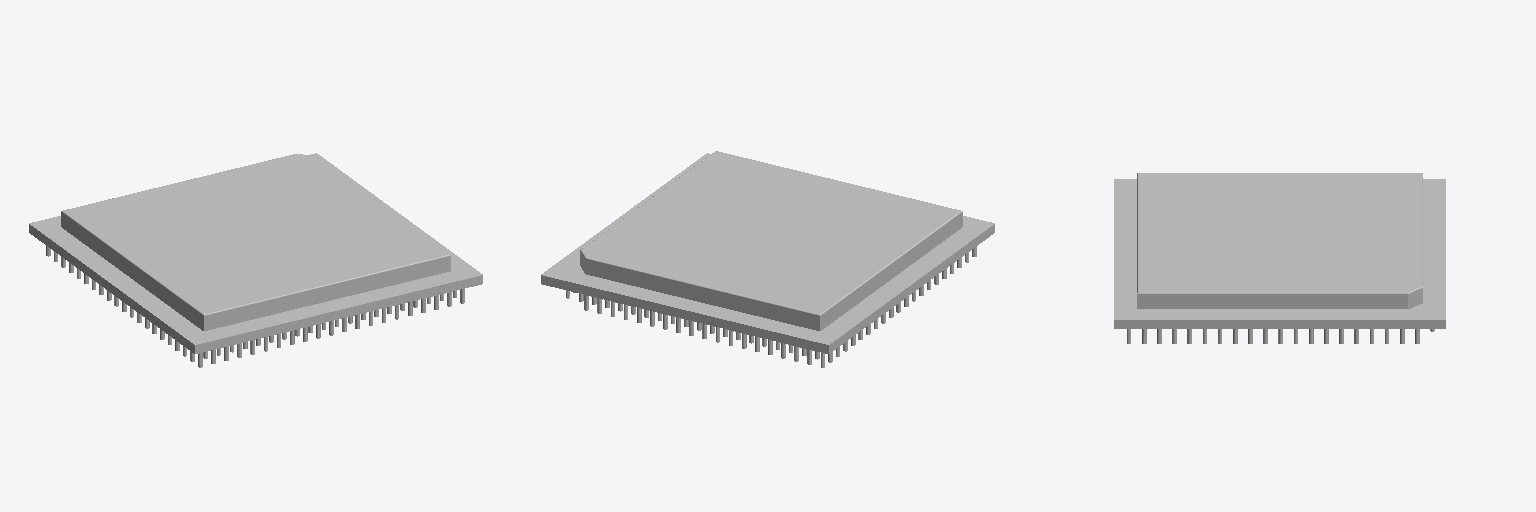
The model's file is cpu.obj.
3 views of the same model, side by side, from view 1: azimuth 30°, elevation 25°; view 2: azimuth 150°, elevation 25°; view 3: azimuth 270°, elevation 25° (orthographic).
Visible parts, largest first — view 1: Mesh374 pentium_4_1 Model; view 2: Mesh374 pentium_4_1 Model; view 3: Mesh374 pentium_4_1 Model.
Part boxes in pixels (left/top/right/bottom): Mesh374 pentium_4_1 Model: left=29, top=153, right=482, bottom=353; Mesh374 pentium_4_1 Model: left=541, top=151, right=994, bottom=353; Mesh374 pentium_4_1 Model: left=1114, top=173, right=1445, bottom=328.
Size of the model in its own units: 144 by 22.36 by 144.